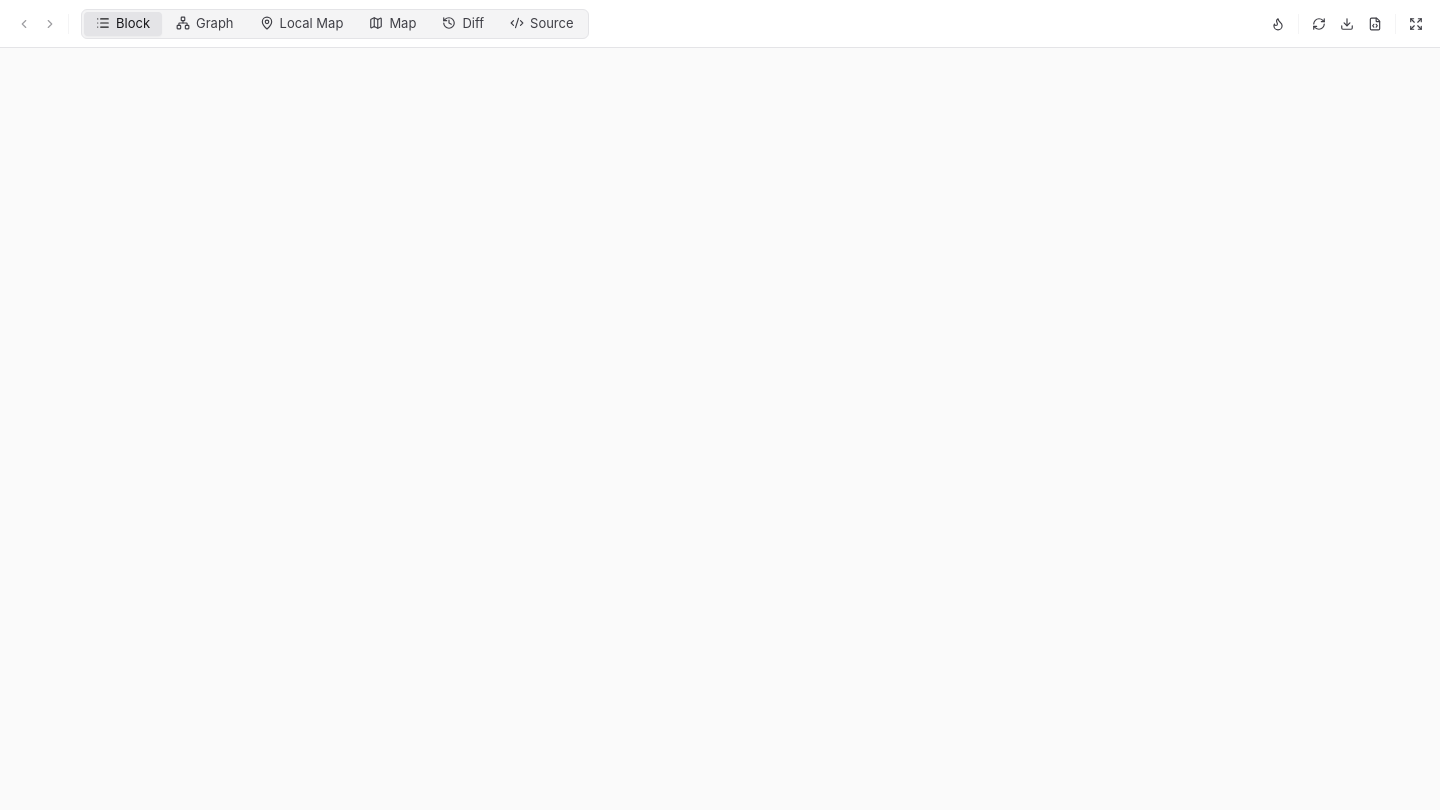
it: MainPaneToolbar › reports export failures as an error toast
The image size is (1440, 810).
What coordinates should you click on to do the following:
click the button named "Export PDF"
I would click on:
 (1347, 24)
Its box is [1335,12,1359,36].
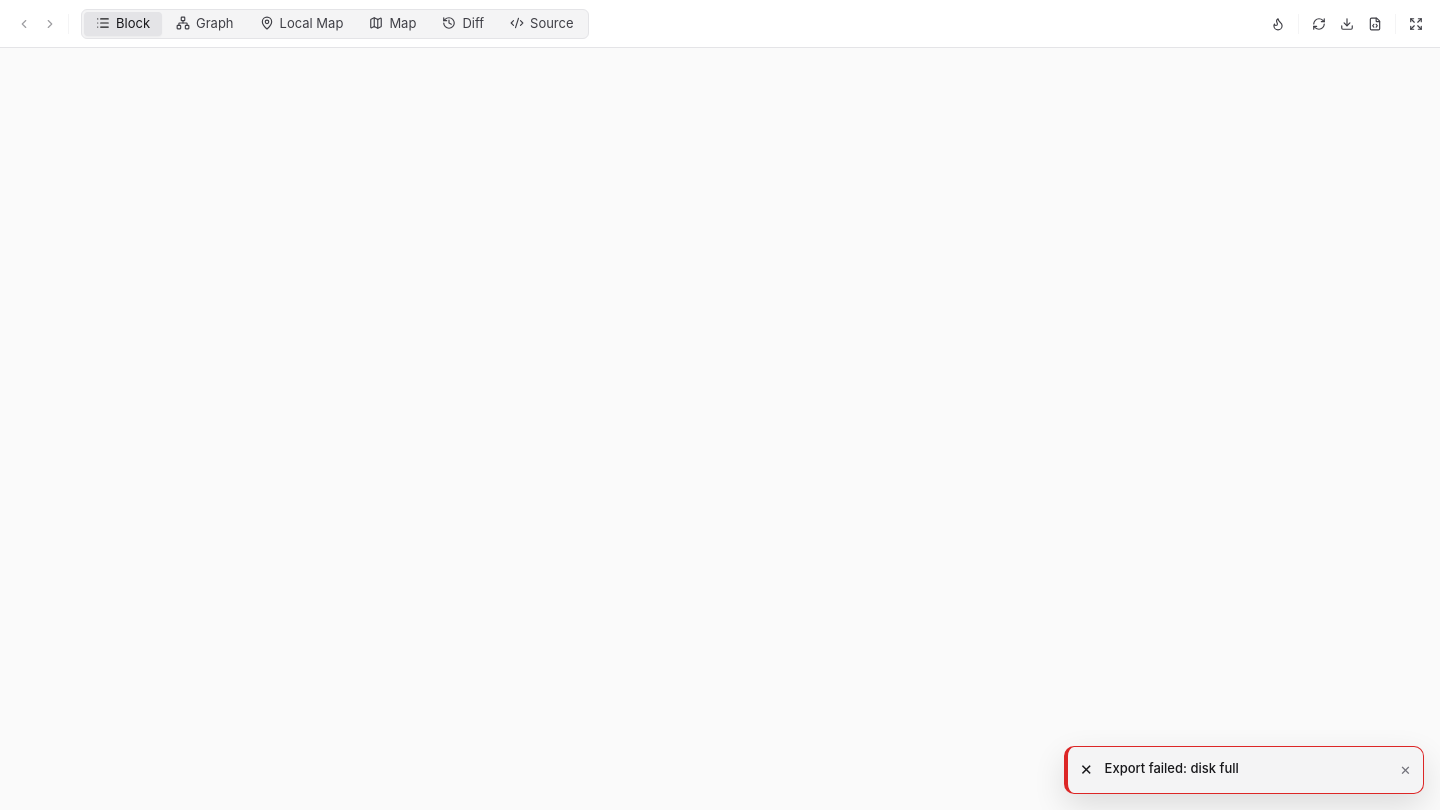
Check: the text "Export failed: disk full" is shown, box [1105,760,1239,776]
